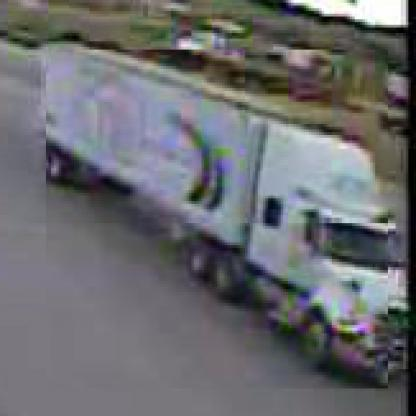container: (44, 51, 389, 392)
